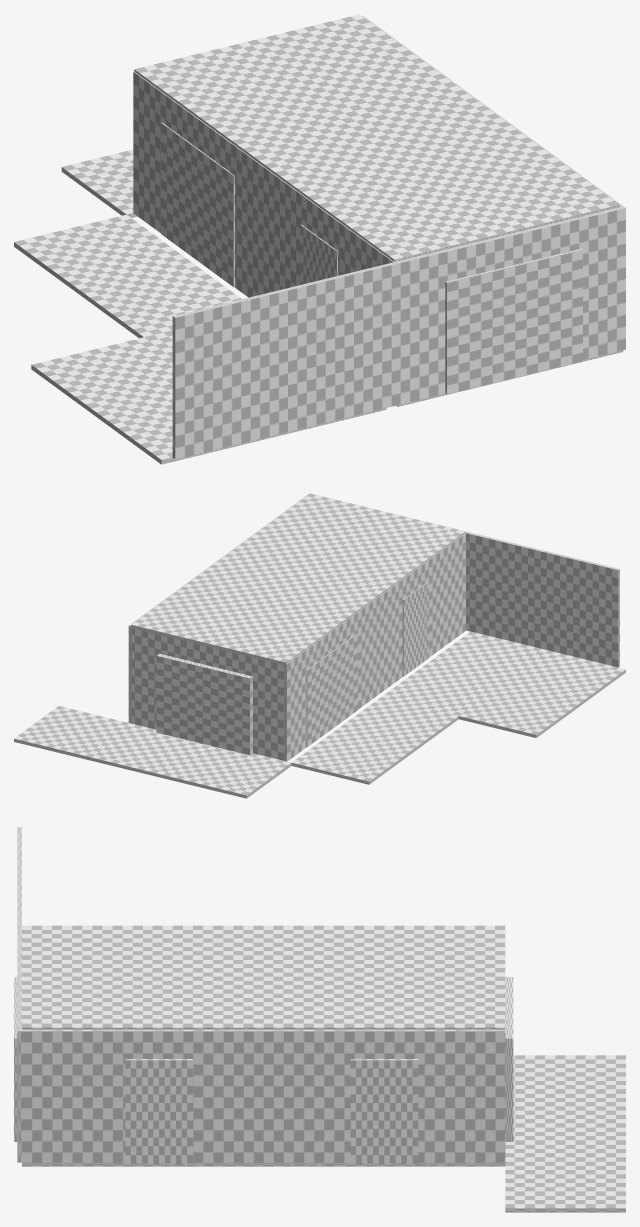
Rendered from LVL PB unity export.fbx.
3 renders of one model, top to bottom at view 1: azimuth 30°, elevation 25°; view 2: azimuth 150°, elevation 25°; view 3: azimuth 270°, elevation 25°, orthographic. The views are drawn at different scales.
Parts seen in each view (by area): view 1: WallPanel_A__14_, WallPanel_A__15_, Door_Open, WallPanel_A__4_, WallPanel_A__5_, Door_Close__4_, CeilingPanel_A, FloorPanel_A__15_, CeilingPanel_A__1_, CeilingPanel_A__5_, CeilingPanel_A__7_, CeilingPanel_A__3_ (+12 smaller); view 2: WallPanel_A__14_, Door_Close__2_, WallPanel_A__15_, Door_Close__4_, WallPanel_A, WallPanel_A__10_, FloorPanel_A__9_, FloorPanel_A__15_, CeilingPanel_A__7_, FloorPanel_A__88_, CeilingPanel_A__6_, FloorPanel_A__80_ (+17 smaller); view 3: WallPanel_A__3_, WallPanel_A__7_, WallPanel_A__9_, WallPanel_A__2_, Door_Close__3_, Door_Close, FloorPanel_A__80_, CeilingPanel_A__6_, CeilingPanel_A__4_, CeilingPanel_A__1_, CeilingPanel_A__2_, CeilingPanel_A__7_ (+12 smaller).
Boxes of the visible parts, box(x1,y1,x2,y2) form: WallPanel_A__14_: box(172, 288, 287, 459); WallPanel_A__15_: box(286, 261, 400, 431); Door_Open: box(445, 248, 582, 394); WallPanel_A__4_: box(398, 233, 513, 404); WallPanel_A__5_: box(511, 206, 625, 359); Door_Close__4_: box(161, 122, 234, 287); CeilingPanel_A: box(329, 184, 506, 261); FloorPanel_A__15_: box(14, 214, 191, 293); CeilingPanel_A__1_: box(442, 157, 619, 234); CeilingPanel_A__5_: box(199, 89, 376, 166); CeilingPanel_A__7_: box(134, 42, 311, 118); CeilingPanel_A__3_: box(264, 137, 441, 213); WallPanel_A__14_: box(540, 550, 619, 667); Door_Close__2_: box(156, 653, 252, 755); WallPanel_A__15_: box(465, 531, 541, 648); Door_Close__4_: box(306, 633, 357, 747); WallPanel_A: box(421, 533, 465, 657); WallPanel_A__10_: box(206, 646, 283, 760); FloorPanel_A__9_: box(458, 683, 581, 737); FloorPanel_A__15_: box(291, 730, 413, 784); CeilingPanel_A__7_: box(208, 611, 330, 665); FloorPanel_A__88_: box(169, 746, 291, 798); CeilingPanel_A__6_: box(131, 592, 252, 646); FloorPanel_A__80_: box(14, 706, 135, 760); WallPanel_A__3_: box(22, 1029, 142, 1162); WallPanel_A__7_: box(263, 1029, 384, 1162); WallPanel_A__9_: box(384, 1029, 505, 1162); WallPanel_A__2_: box(143, 1029, 263, 1162); Door_Close__3_: box(350, 1059, 418, 1163); Door_Close: box(125, 1059, 192, 1163); FloorPanel_A__80_: box(505, 1157, 625, 1212); CeilingPanel_A__6_: box(384, 976, 505, 1029); CeilingPanel_A__4_: box(263, 976, 384, 1029); CeilingPanel_A__1_: box(22, 976, 142, 1029); CeilingPanel_A__2_: box(143, 976, 263, 1029); CeilingPanel_A__7_: box(384, 925, 505, 976).
Size of the model in its own units: 1250 by 314 by 1267.
